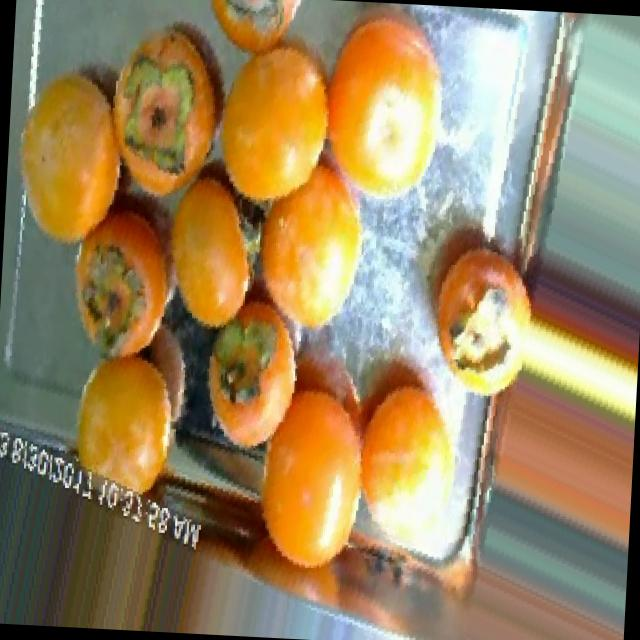Fruit: (2, 54, 142, 270), (146, 148, 266, 354)
